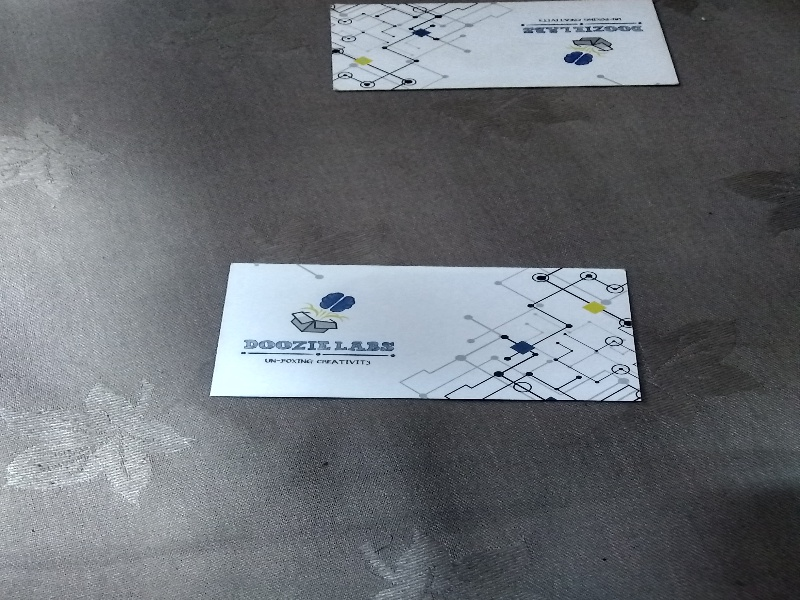back: (206, 258, 648, 406)
